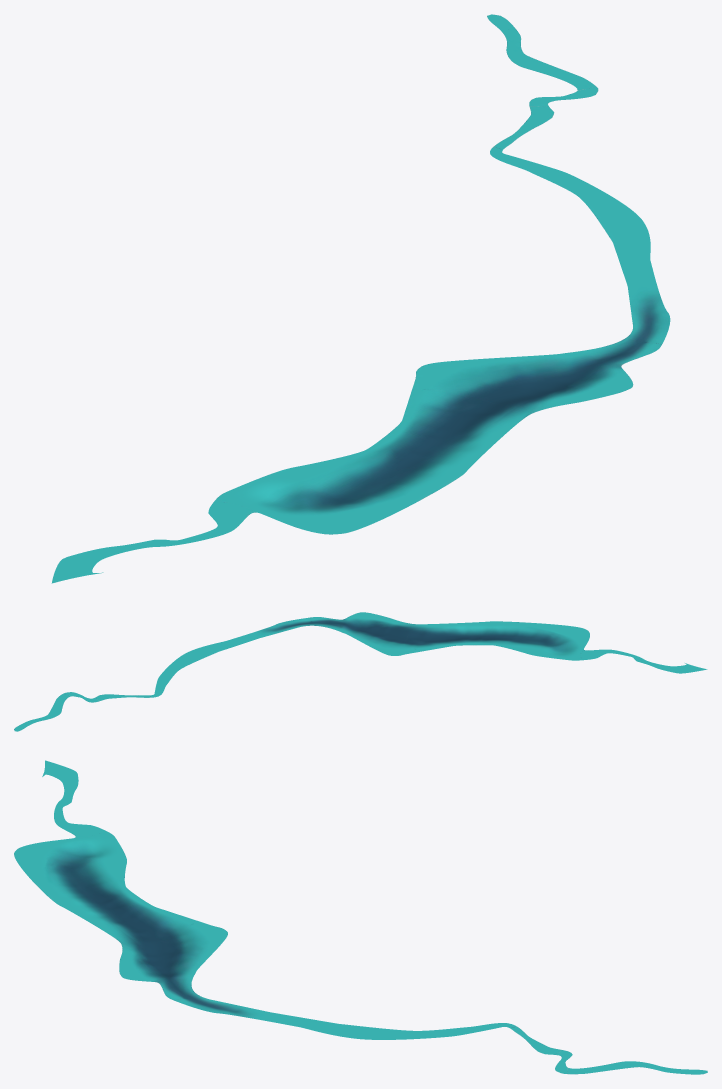
File: Small-Sand-v1.glb
3 renders of one model, top to bottom at view 1: azimuth 30°, elevation 25°; view 2: azimuth 150°, elevation 25°; view 3: azimuth 270°, elevation 25°, orthographic. The views are drawn at different scales.
Visible parts, largest first — view 1: Sea Land; view 2: Sea Land; view 3: Sea Land.
Part boxes in pixels (box(x1,y1,x2,y2)): Sea Land: box(51, 14, 670, 583); Sea Land: box(14, 612, 707, 731); Sea Land: box(14, 760, 707, 1074).
Size of the model in its own units: 5048 by 28.96 by 4710.
1 material, 1 textured.
